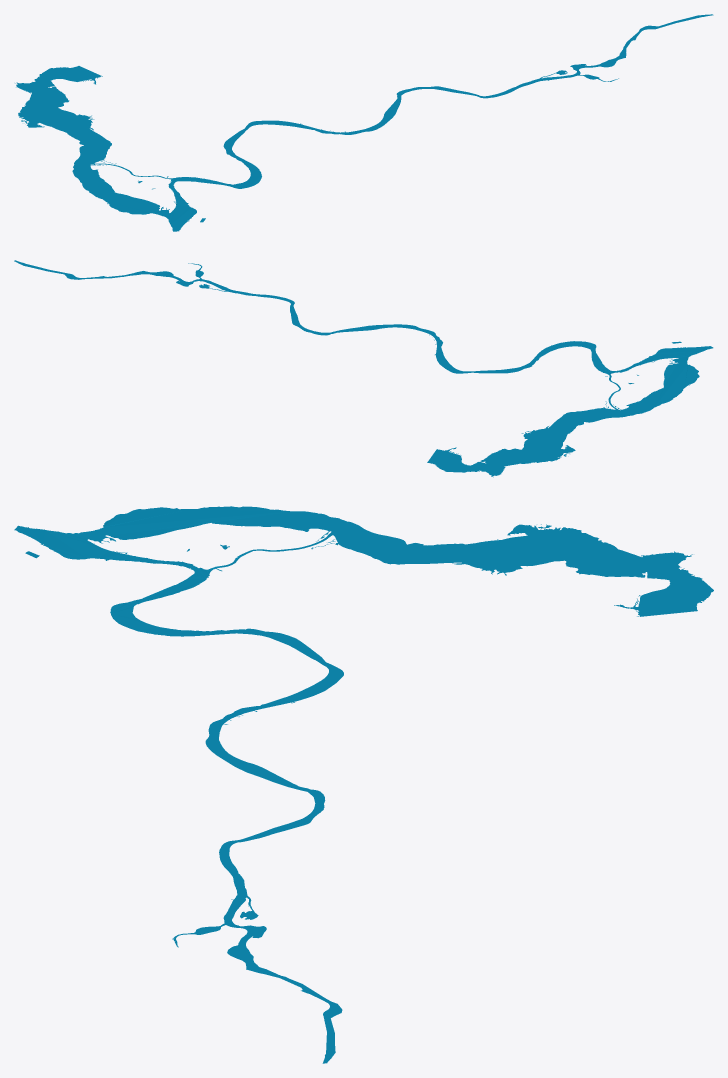
File: water.glb
3 views of the same model, one above another, from view 1: azimuth 30°, elevation 25°; view 2: azimuth 150°, elevation 25°; view 3: azimuth 270°, elevation 25° (orthographic). The views are drawn at different scales.
Visible parts, largest first — view 1: water; view 2: water; view 3: water.
Part boxes in pixels (box(x1,y1,x2,y2)): water: box(15, 14, 713, 231); water: box(14, 260, 713, 477); water: box(14, 506, 713, 1063).
Bounding box in the file's own units: 25929 × 31.65 × 13764.
